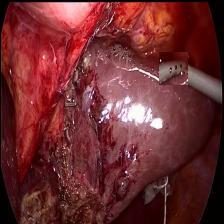Irrigator: (158, 51, 187, 84)
Specimen Bag: (132, 162, 180, 216)
